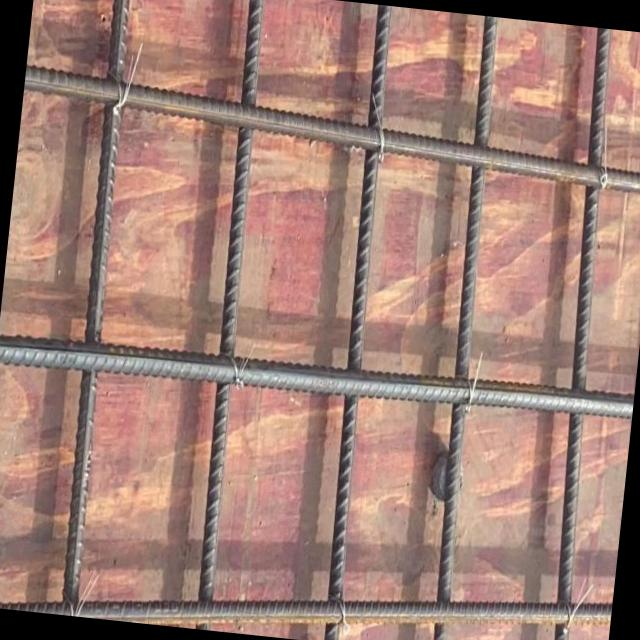ribbed bar: (19, 61, 640, 203), (0, 329, 633, 434), (528, 28, 633, 640), (0, 535, 612, 640), (416, 16, 513, 640), (310, 5, 405, 640), (181, 0, 275, 629), (48, 0, 144, 600)
